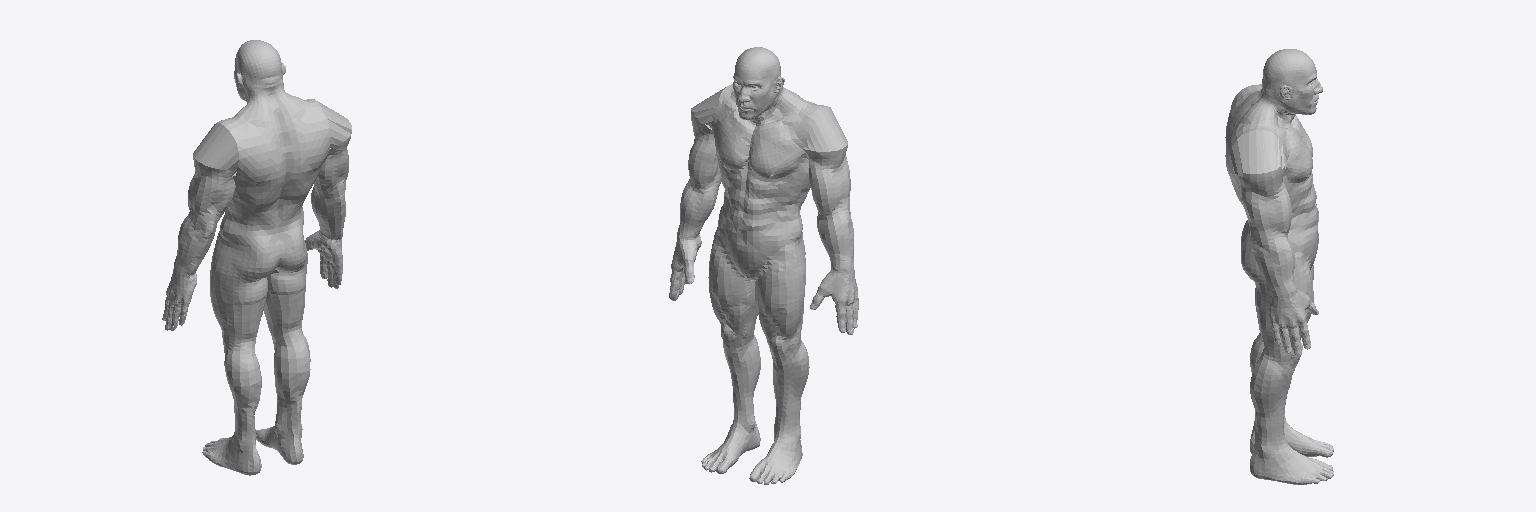
The model's file is mass_monster.obj.
3 renders of one model, left to right at view 1: azimuth 30°, elevation 25°; view 2: azimuth 150°, elevation 25°; view 3: azimuth 270°, elevation 25°, orthographic.
Visible parts, largest first — view 1: mass_monster.001; view 2: mass_monster.001; view 3: mass_monster.001.
Part boxes in pixels (bbox=[...]): mass_monster.001: bbox=[162, 40, 351, 475]; mass_monster.001: bbox=[669, 47, 858, 484]; mass_monster.001: bbox=[1225, 49, 1333, 484].
Size of the model in its own units: 1.89 by 4.28 by 1.02.